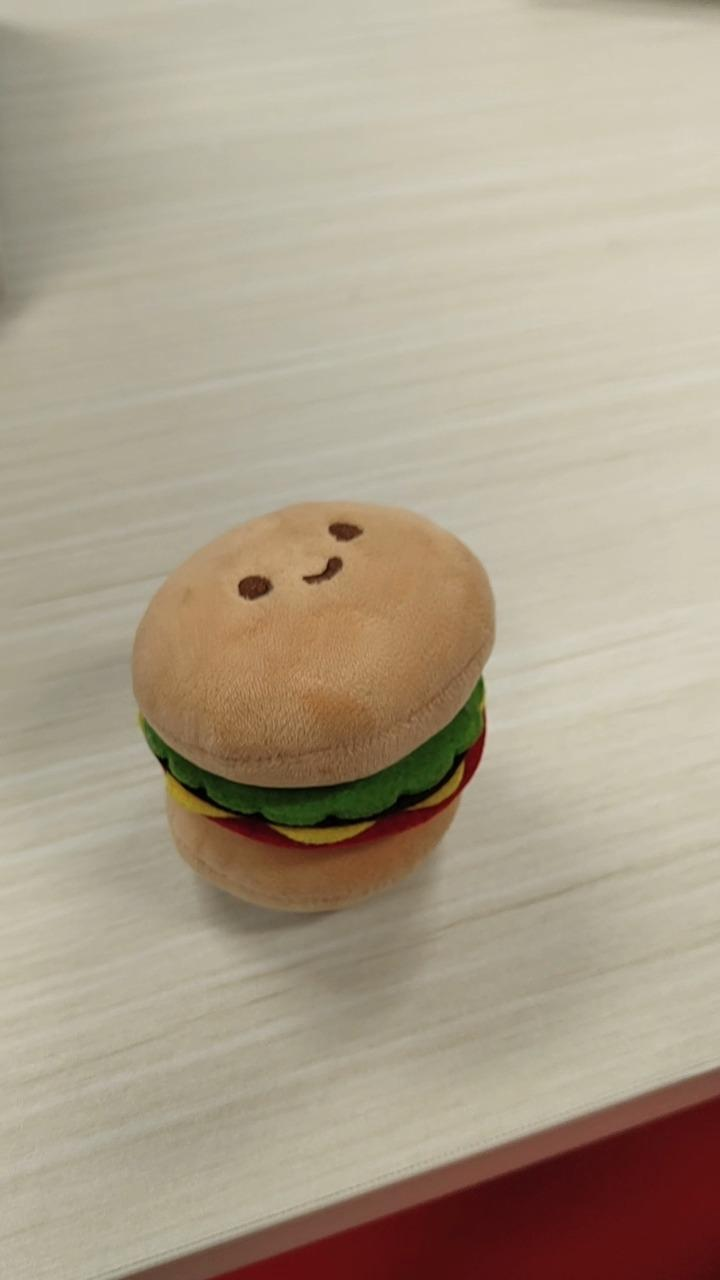hamburger: (130, 498, 496, 915)
